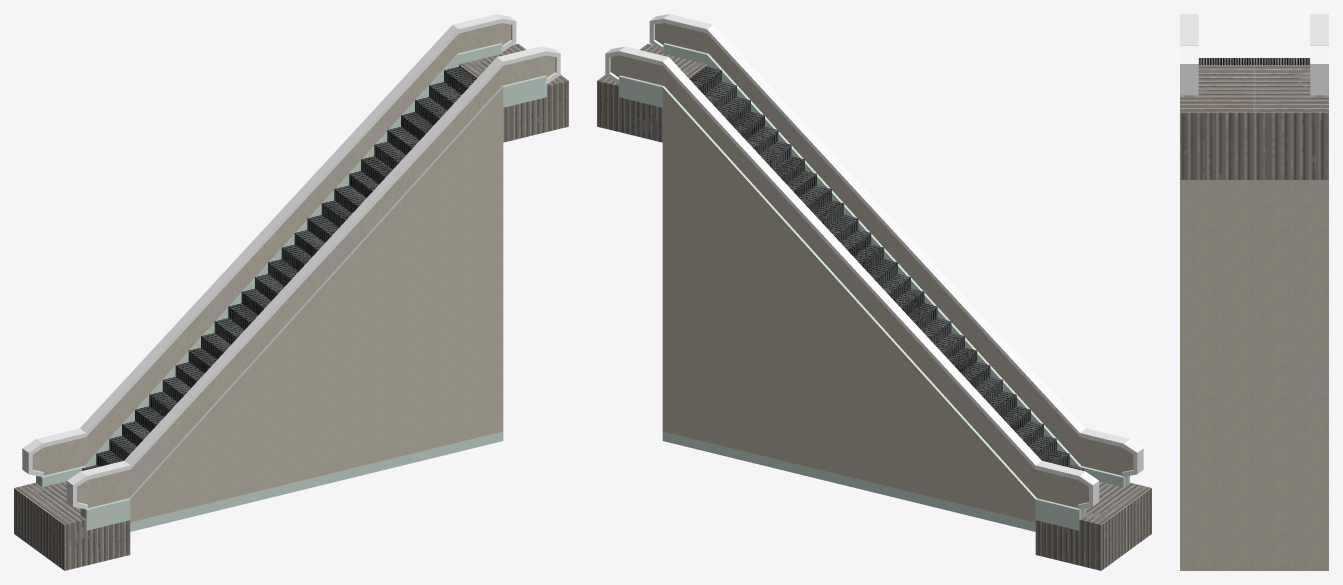
File: escalator.fbx
The picture shows the model from 3 angles, left to right: view 1: azimuth 30°, elevation 25°; view 2: azimuth 150°, elevation 25°; view 3: azimuth 270°, elevation 25°; orthographic projection. The views are drawn at different scales.
Parts seen in each view (by area): view 1: Mall Wall Mesh (1), translucent_lamp Mesh (1), black box Mesh (1), escalator_floor Mesh (1), metalLight Mesh (1), rollup_plain Mesh (1); view 2: Mall Wall Mesh (1), translucent_lamp Mesh (1), black box Mesh (1), escalator_floor Mesh (1), metalLight Mesh (1), rollup_plain Mesh (1); view 3: Mall Wall Mesh (1), rollup_plain Mesh (1), black box Mesh (1), escalator_floor Mesh (1).
Part boxes in pixels (box(x1,y1,x2,y2)): Mall Wall Mesh (1): box(130, 87, 503, 522); translucent_lamp Mesh (1): box(32, 23, 555, 518); black box Mesh (1): box(22, 14, 560, 509); escalator_floor Mesh (1): box(82, 66, 475, 470); metalLight Mesh (1): box(36, 43, 546, 531); rollup_plain Mesh (1): box(14, 43, 568, 570); Mall Wall Mesh (1): box(662, 87, 1035, 522); translucent_lamp Mesh (1): box(610, 23, 1133, 518); black box Mesh (1): box(605, 14, 1143, 509); escalator_floor Mesh (1): box(690, 66, 1099, 480); metalLight Mesh (1): box(619, 43, 1129, 531); rollup_plain Mesh (1): box(597, 43, 1151, 570); Mall Wall Mesh (1): box(1180, 180, 1328, 570); rollup_plain Mesh (1): box(1180, 65, 1328, 179); black box Mesh (1): box(1180, 14, 1328, 95); escalator_floor Mesh (1): box(1198, 58, 1310, 65).
Bounding box in the file's own units: 23 × 17.53 × 4.
